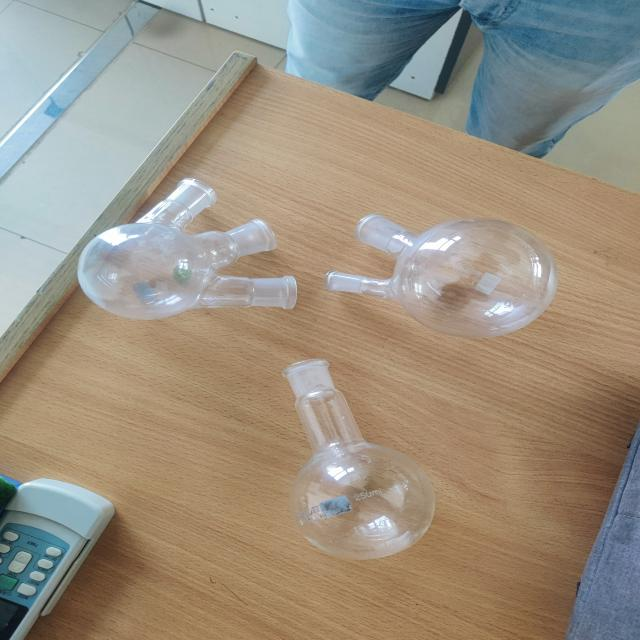Round_Bottom_Flask_Borosilicate_Glass_1_Neck: (242, 338, 462, 577)
Round_Bottom_Flask_Borosilicate_Glass_2_Neck: (304, 184, 588, 354)
Round_Bottom_Flask_Borosilicate_Glass_3_Neck: (69, 149, 321, 349)
